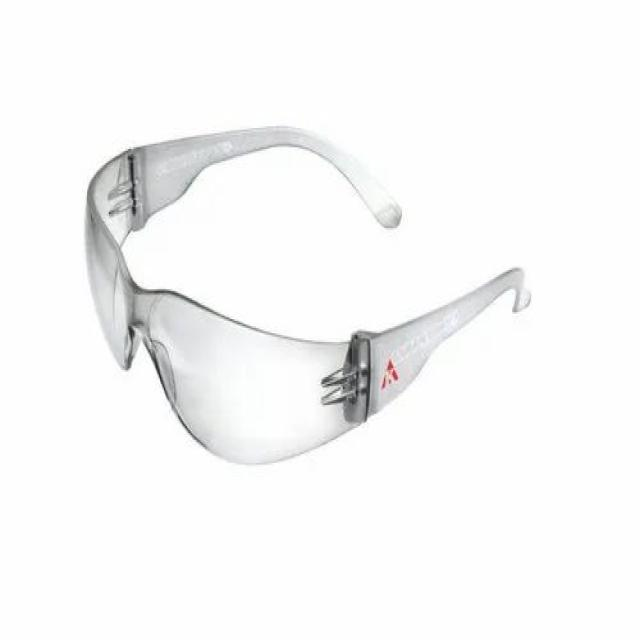goggles: (74, 109, 539, 476)
